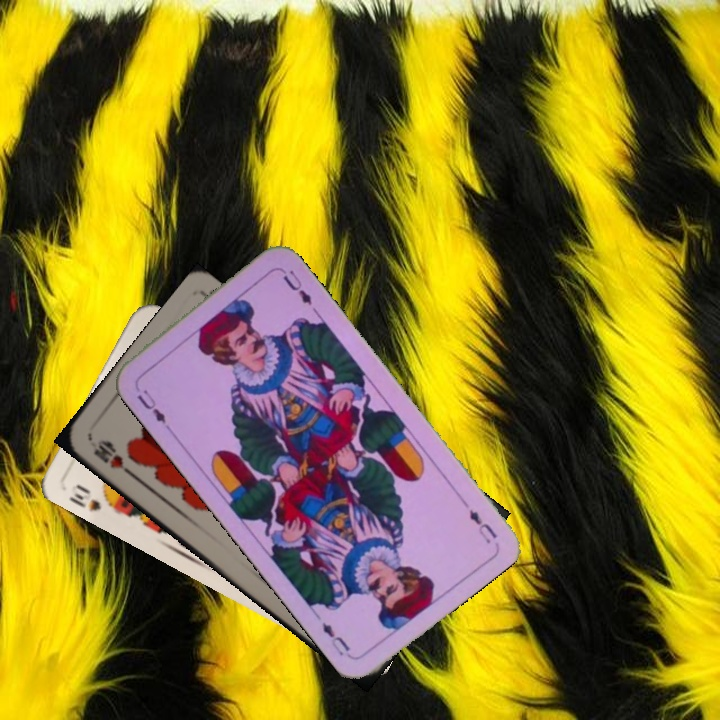EU: (132, 385, 173, 433), (465, 505, 500, 546)
H10: (89, 436, 136, 479)
S10: (64, 480, 119, 515)
